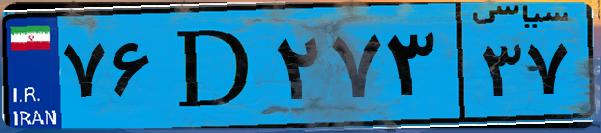2: (270, 28, 330, 110)
3: (385, 28, 445, 110), (475, 38, 525, 113)
6: (110, 28, 158, 98)
7: (330, 28, 385, 110), (57, 26, 110, 100), (525, 38, 570, 115)
D: (158, 12, 270, 120)
